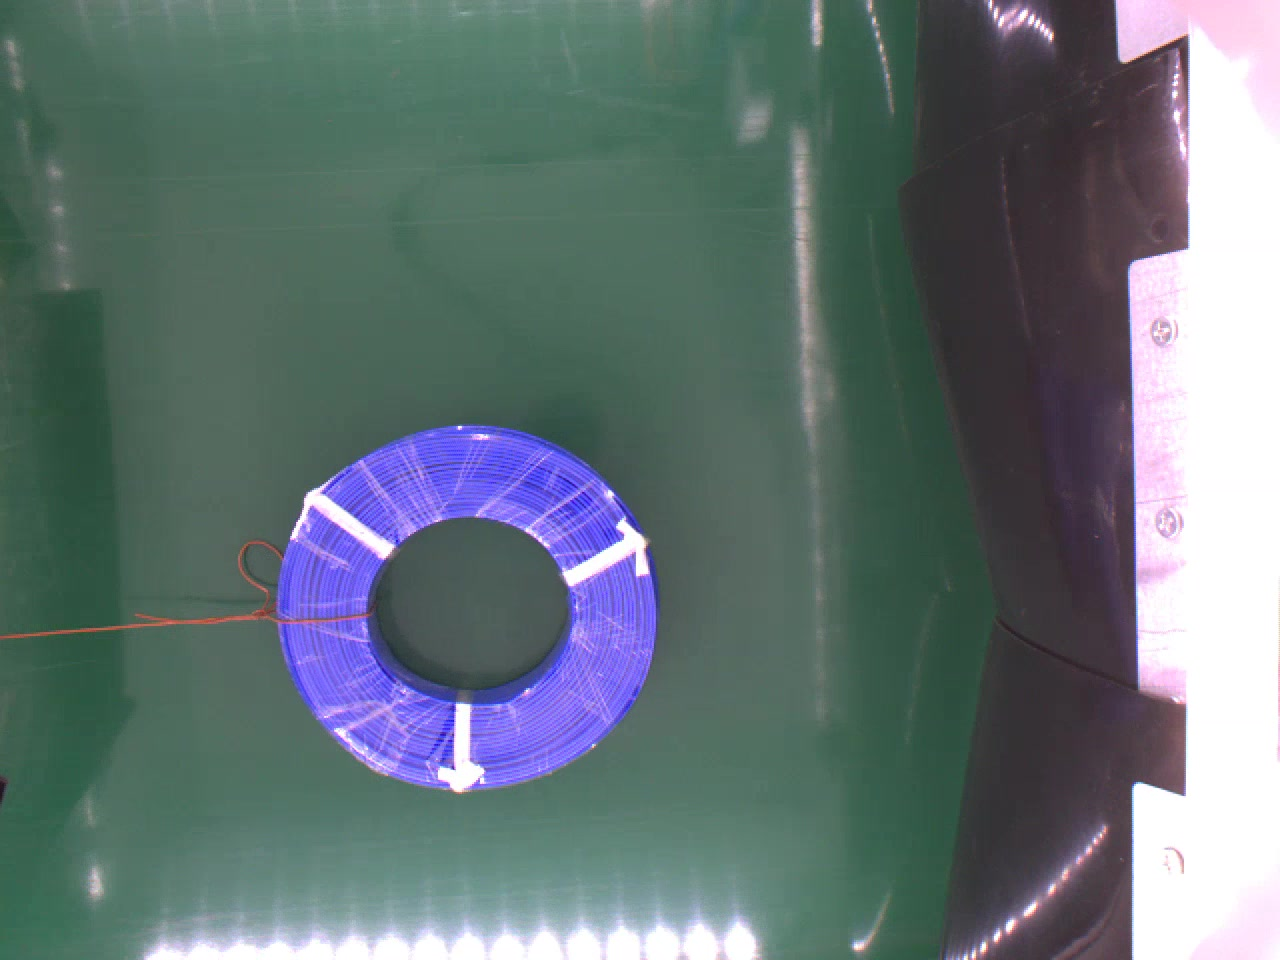blue: (274, 424, 668, 795)
